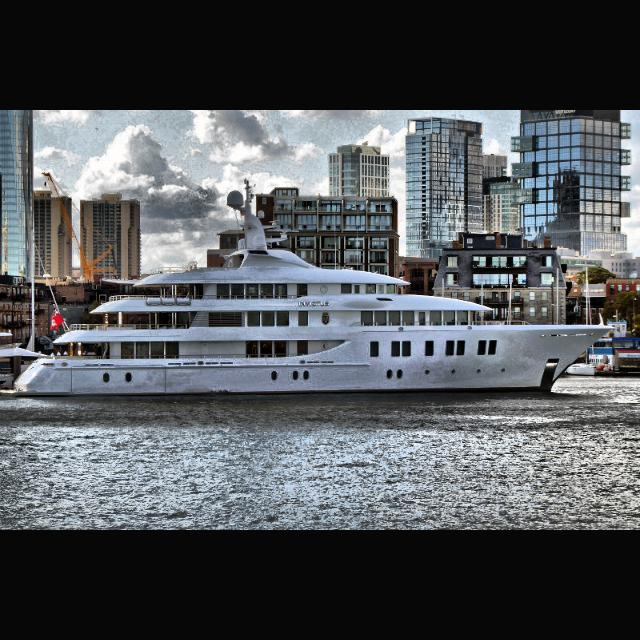yacht: (1, 190, 616, 400)
